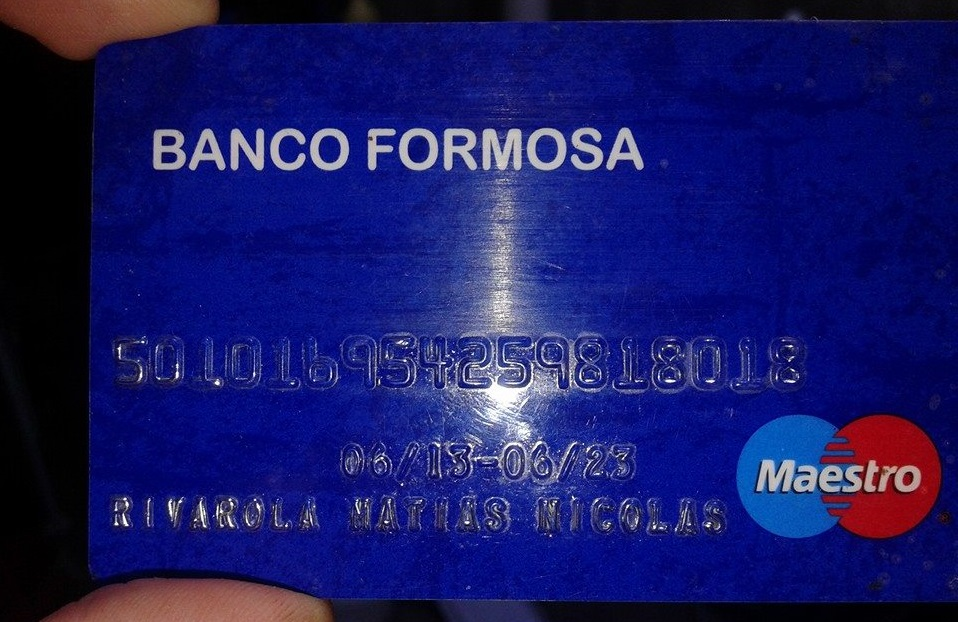tarjeta: (87, 20, 958, 605)
